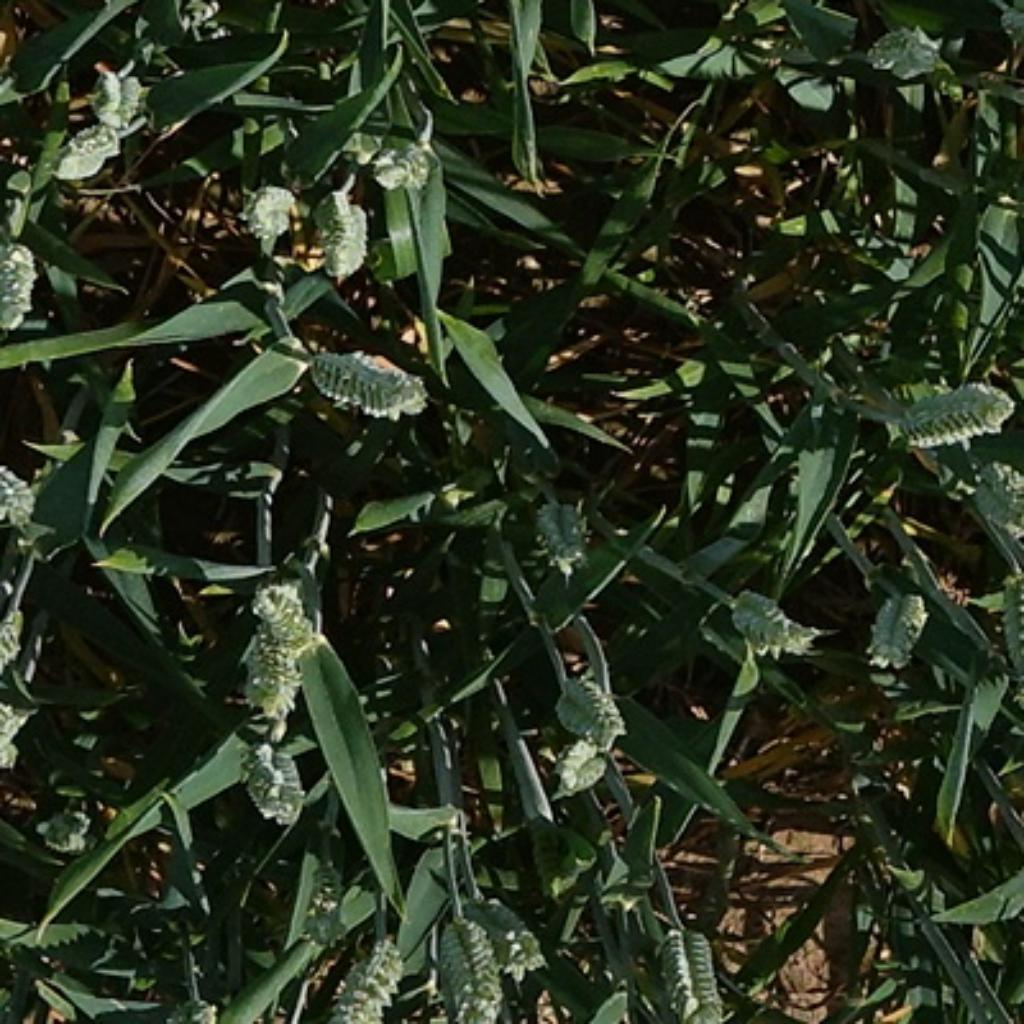0-0: (222, 560, 322, 724), (294, 332, 432, 419), (888, 371, 1021, 448), (445, 896, 565, 980), (419, 911, 501, 1024), (227, 721, 312, 824), (330, 926, 417, 1024), (542, 657, 629, 752), (719, 576, 819, 657), (655, 926, 734, 1024), (350, 125, 445, 199), (545, 722, 625, 807), (854, 14, 951, 83), (309, 181, 376, 279), (860, 578, 931, 670), (43, 122, 122, 202), (524, 488, 596, 570), (2, 225, 38, 378), (28, 791, 97, 870), (960, 455, 1024, 540), (993, 558, 1024, 701), (87, 64, 143, 140), (0, 455, 44, 542), (240, 179, 296, 240), (0, 600, 40, 680)
